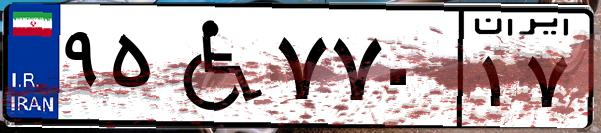0: (385, 28, 445, 110)
1: (475, 38, 525, 113)
5: (110, 28, 158, 98)
7: (270, 28, 330, 110), (330, 28, 385, 110), (525, 38, 570, 115)
9: (57, 26, 110, 100)
ژ (معلولین و جانبازان): (158, 12, 270, 120)
